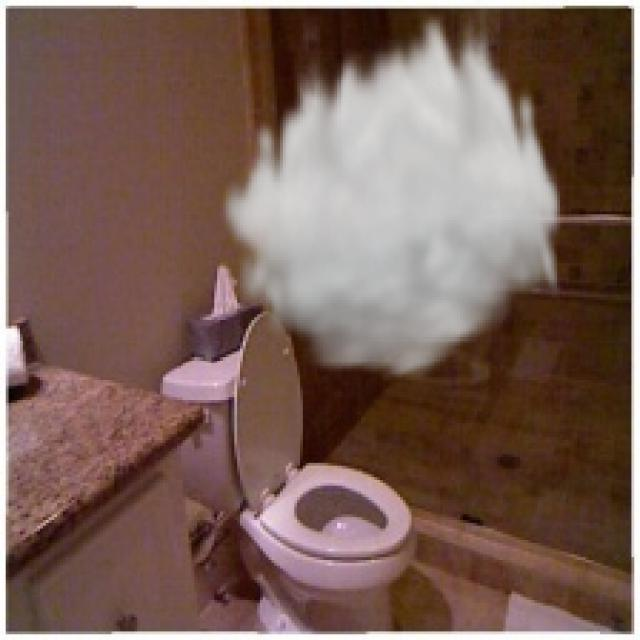Smoke: (217, 0, 566, 386)
